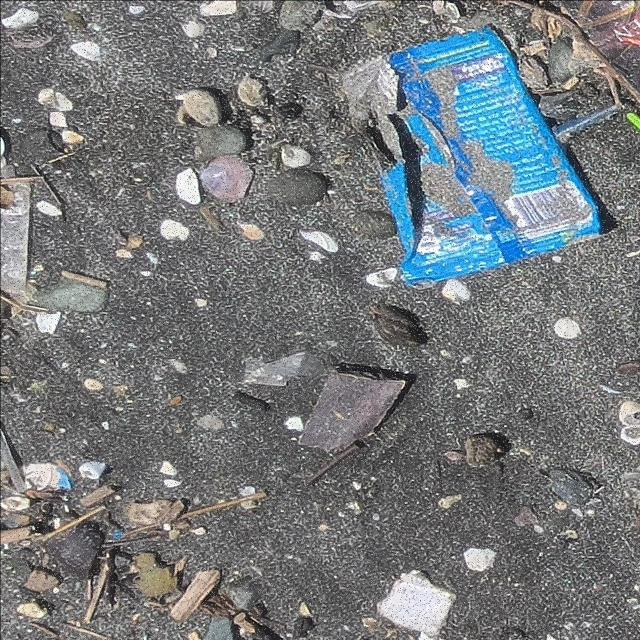plastic_waste: (340, 29, 602, 284)
